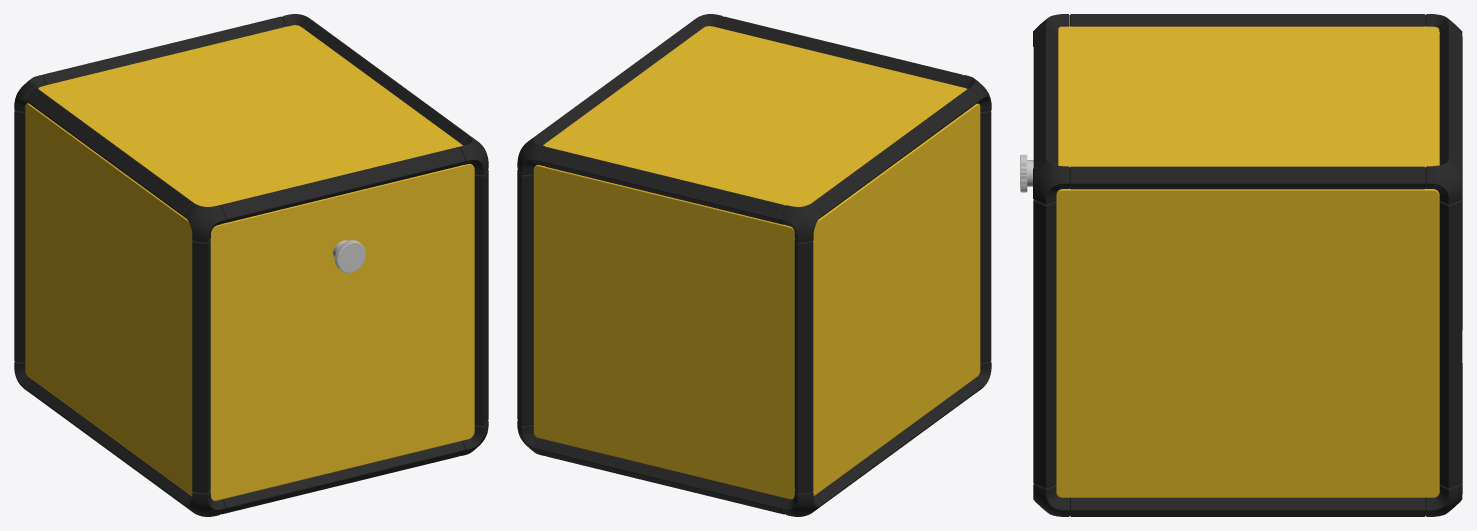
3 views of the same model, side by side, from view 1: azimuth 30°, elevation 25°; view 2: azimuth 150°, elevation 25°; view 3: azimuth 270°, elevation 25° (orthographic). The views are drawn at different scales.
Visible parts, largest first — view 1: 329x374x329; view 2: 329x374x329; view 3: 329x374x329.
Part boxes in pixels (x1,y1,x2,y2): 329x374x329: (14, 14, 488, 516); 329x374x329: (517, 14, 991, 516); 329x374x329: (1020, 14, 1462, 516).
Size of the model in its own units: 0.4067 by 0.4066 by 0.4646.
